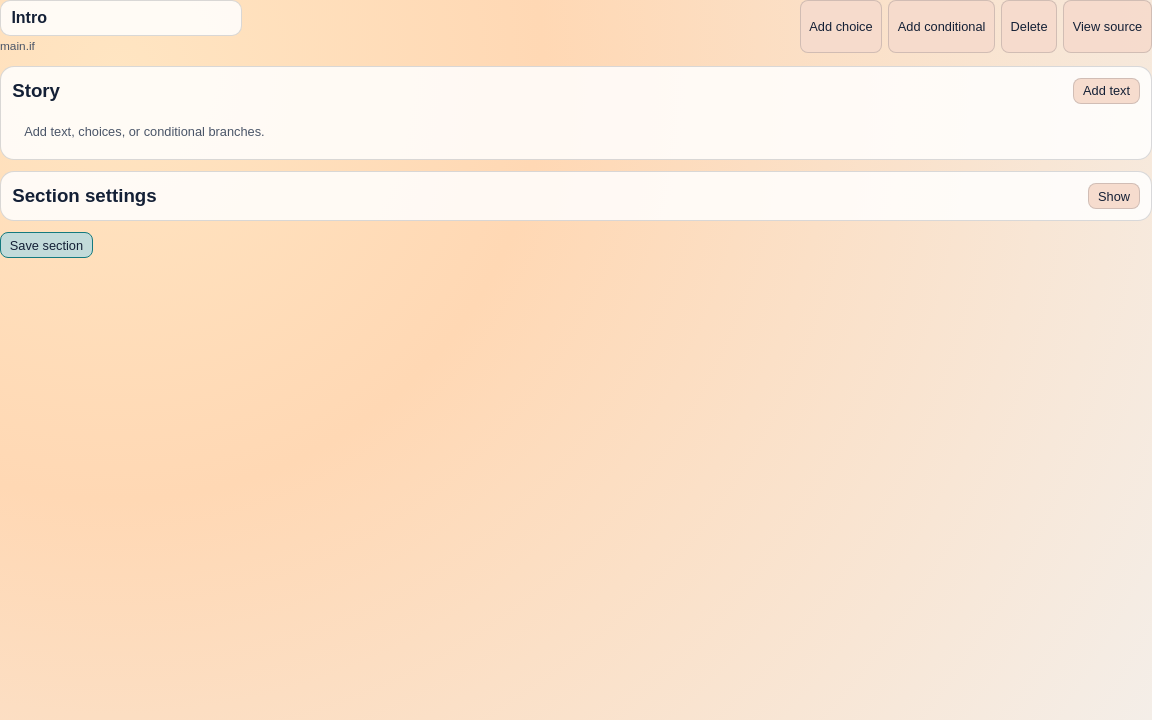
Test: GraphSectionWriterPane › block management › "Remove" button removes a text block
The width and height of the screenshot is (1152, 720).
Click the button "Add text" at (1107, 91), box top-left (1073, 78), bottom-right (1140, 104)
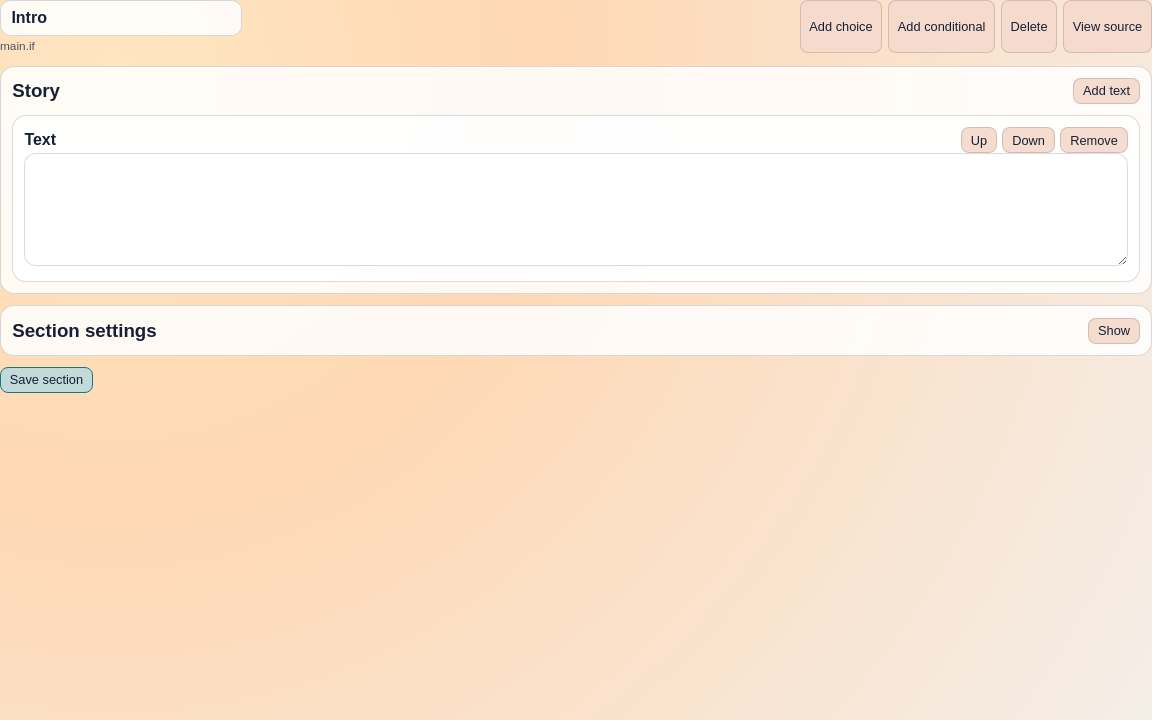
Click the button "Remove" at (1094, 140), box top-left (1060, 127), bottom-right (1128, 153)
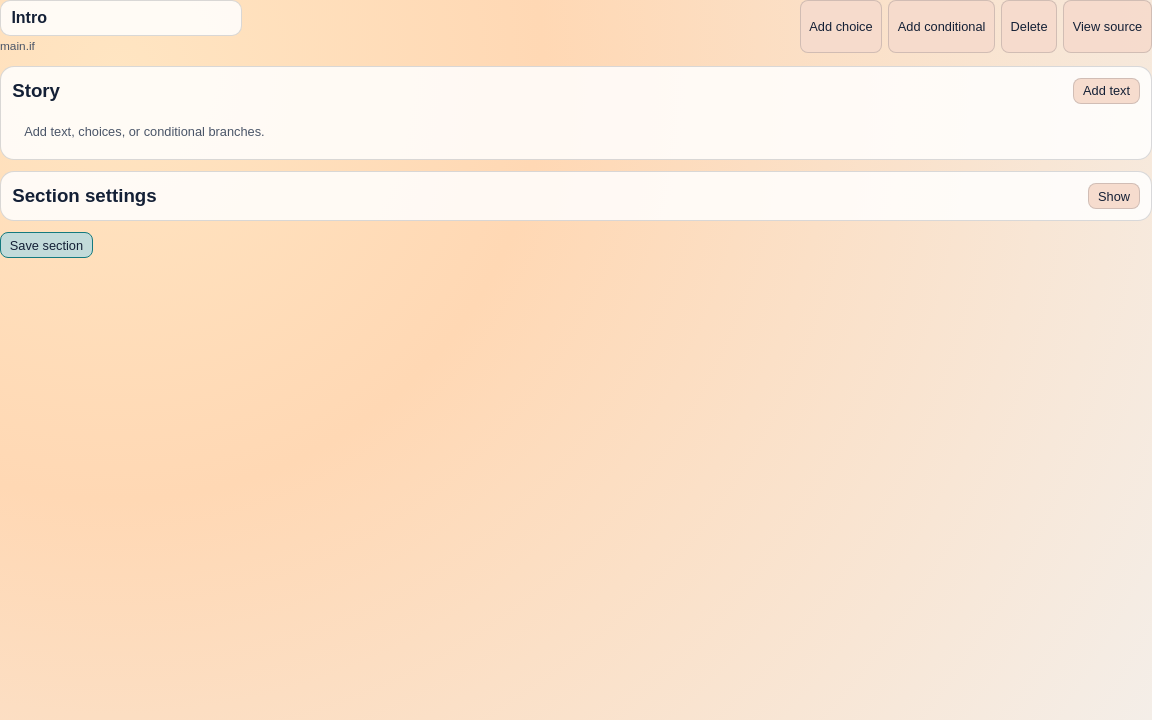
Now the text "Add text, choices, or conditional branches." is shown, box top-left (24, 124), bottom-right (265, 139)
